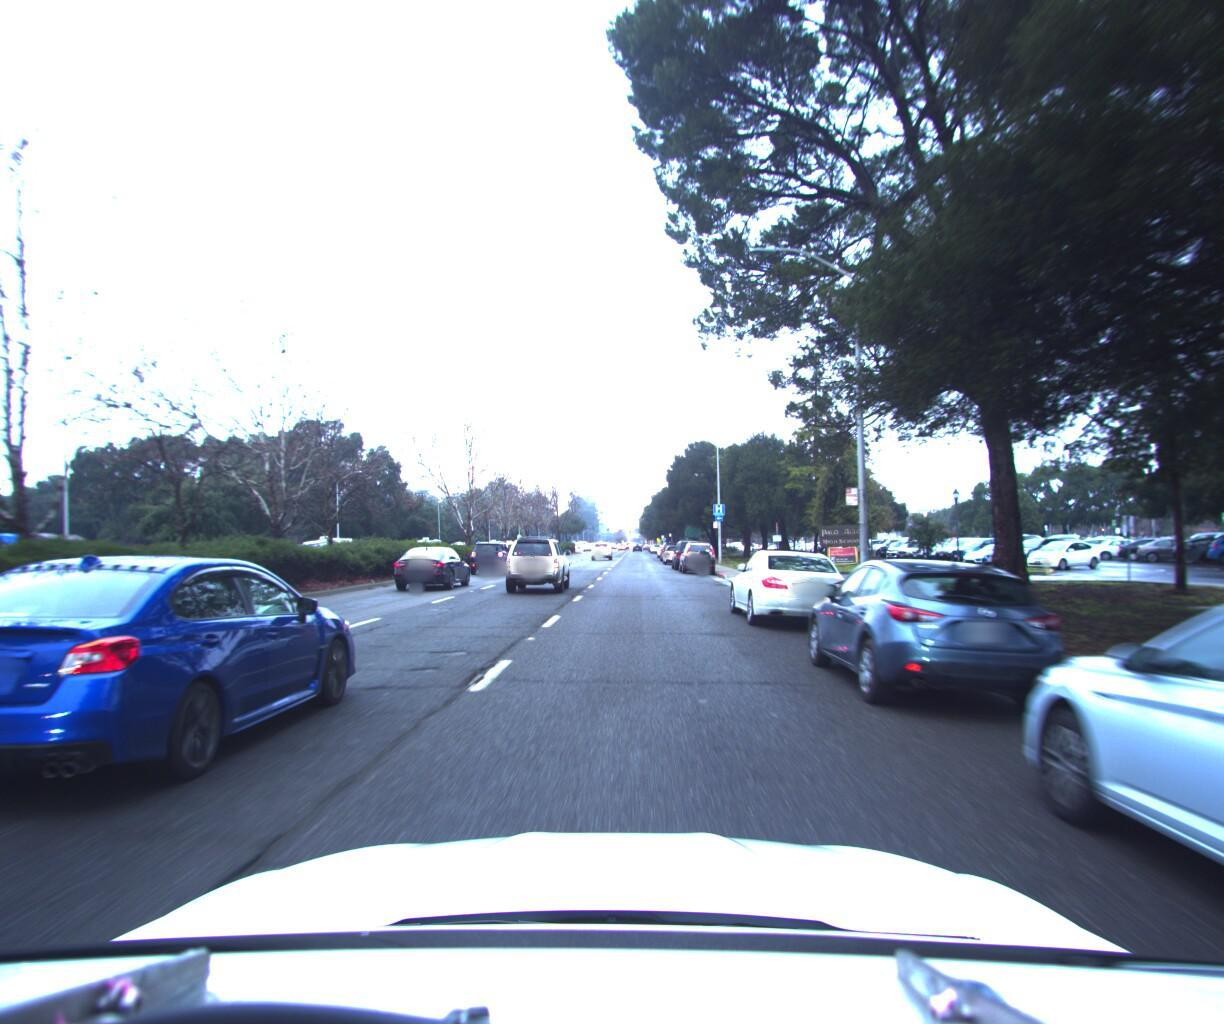car: (976, 553, 1224, 1024), (0, 548, 371, 840), (792, 543, 1086, 734), (721, 540, 863, 639), (500, 533, 572, 593), (390, 542, 472, 592), (468, 535, 517, 571), (674, 533, 717, 570), (667, 530, 705, 567), (659, 539, 686, 560), (590, 535, 613, 555)
other_vehicle: (0, 528, 98, 597)
